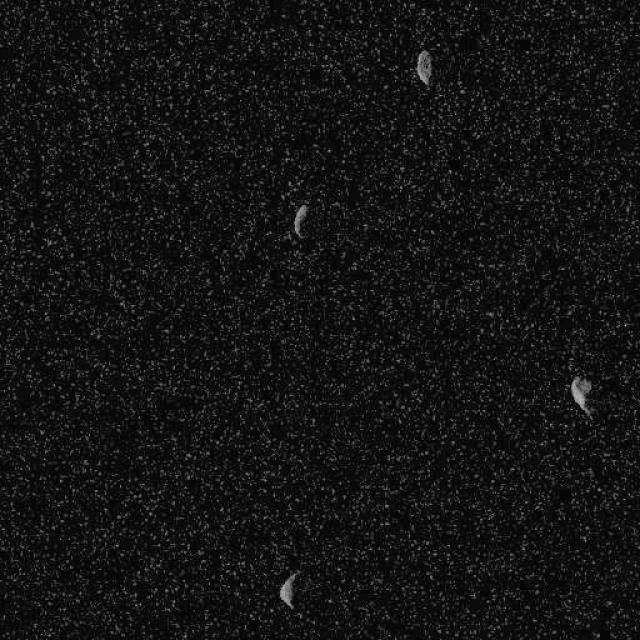D2: (568, 373, 594, 418), (278, 569, 298, 609), (415, 49, 434, 85), (292, 202, 308, 238)
